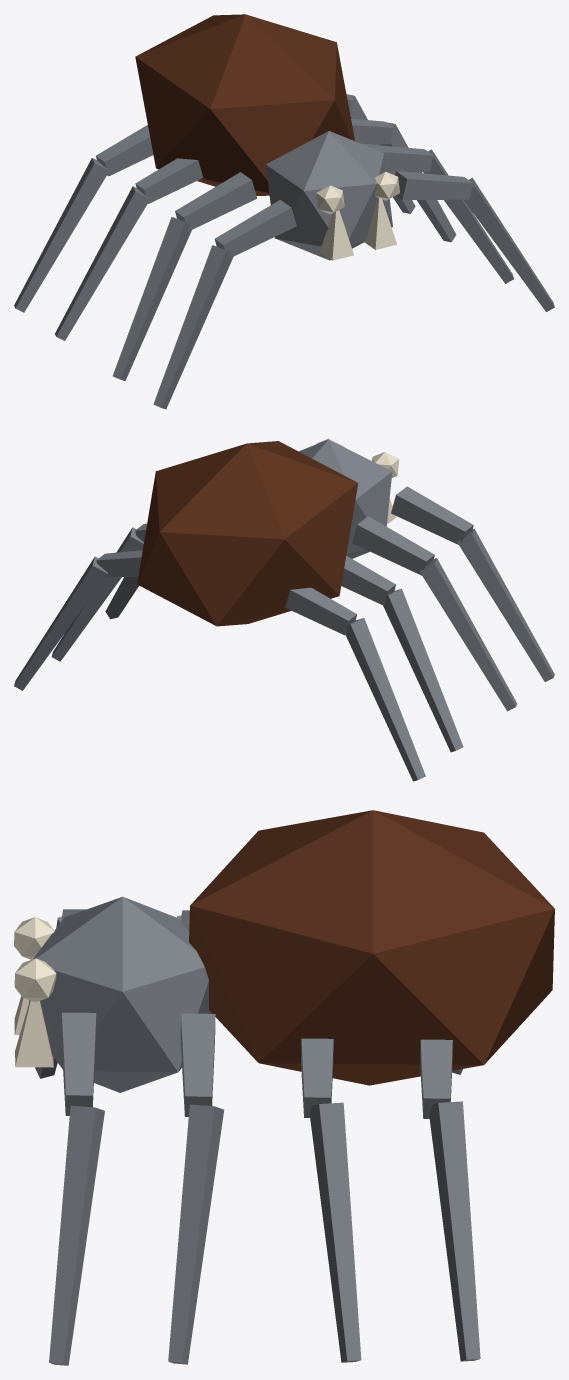
The model's file is npcpose_spider_idle_11.glb.
The picture shows the model from 3 angles, top to bottom: view 1: azimuth 30°, elevation 25°; view 2: azimuth 150°, elevation 25°; view 3: azimuth 270°, elevation 25°; orthographic projection. The views are drawn at different scales.
Visible parts, largest first — view 1: npcpose; view 2: npcpose; view 3: npcpose.
Part boxes in pixels (x1,y1,x2,y2): npcpose: (14, 14, 554, 409); npcpose: (14, 438, 554, 781); npcpose: (14, 810, 554, 1365).
Size of the model in its own units: 1.33 by 0.8335 by 0.9985.
